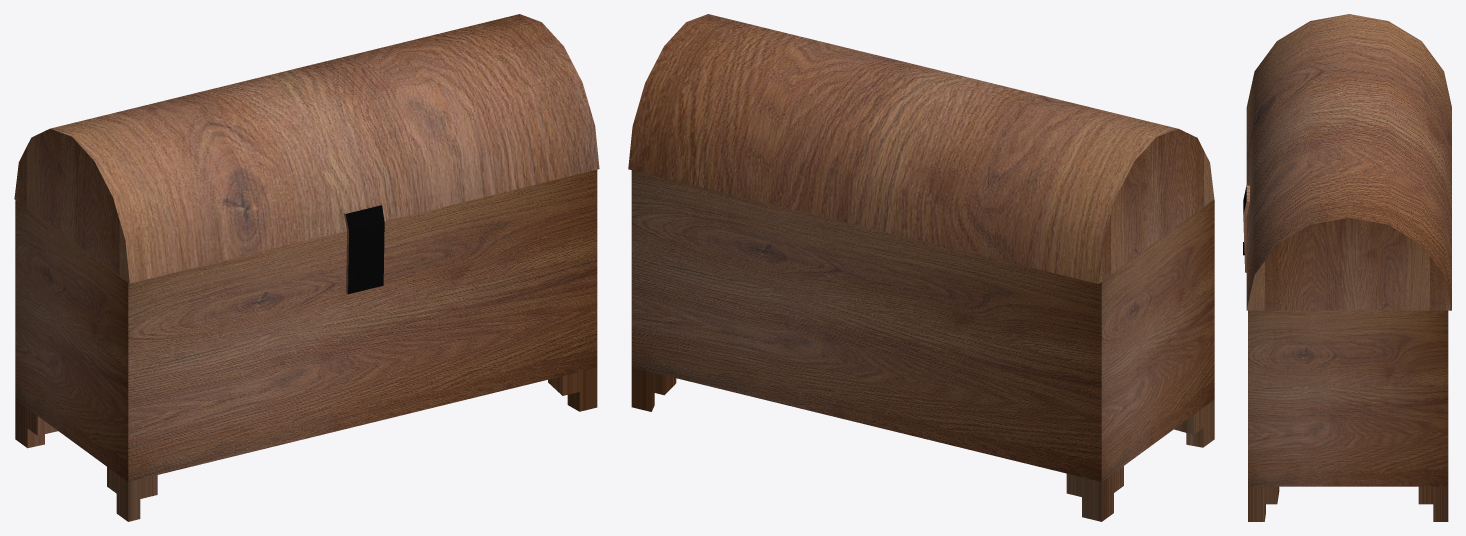
The model's file is baul.fbx.
The picture shows the model from 3 angles, left to right: view 1: azimuth 30°, elevation 25°; view 2: azimuth 150°, elevation 25°; view 3: azimuth 270°, elevation 25°; orthographic projection. The views are drawn at different scales.
Parts seen in each view (by area): view 1: Box006, Cylinder002; view 2: Box006, Cylinder002; view 3: Cylinder002, Box006.
Part boxes in pixels (x1,y1,x2,y2): Box006: (15,169,597,521); Cylinder002: (14,14,599,294); Box006: (631,170,1214,521); Cylinder002: (628,14,1214,283); Cylinder002: (1243,14,1451,310); Box006: (1243,242,1448,521).
Size of the model in its own units: 49.5 by 34.49 by 21.4.
Materials: 2 (1 with a texture image).
